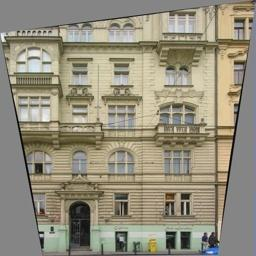building: (9, 9, 216, 232)
